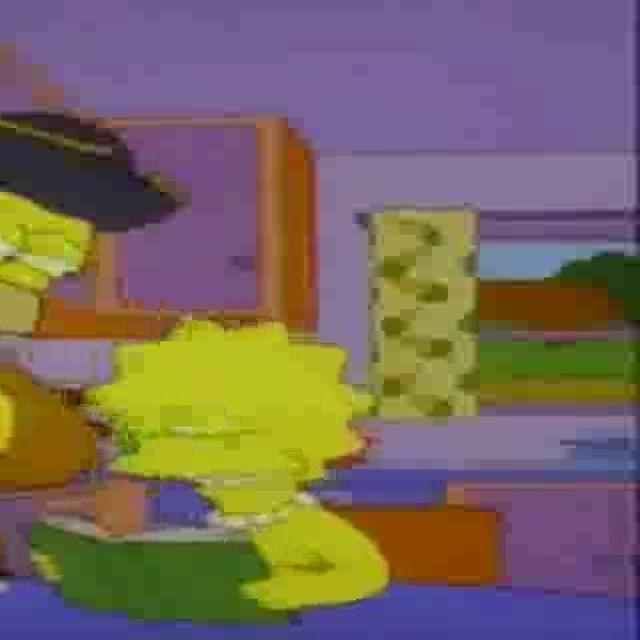Homer Simpson: (1, 186, 99, 354)
